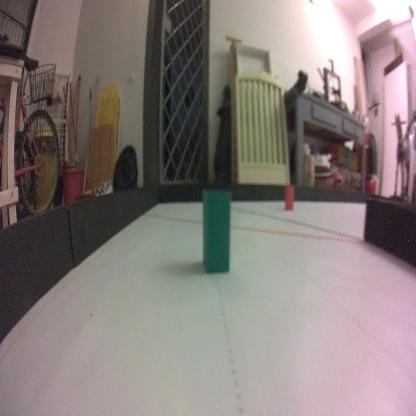green: (199, 184, 235, 277)
red: (284, 183, 294, 212)
